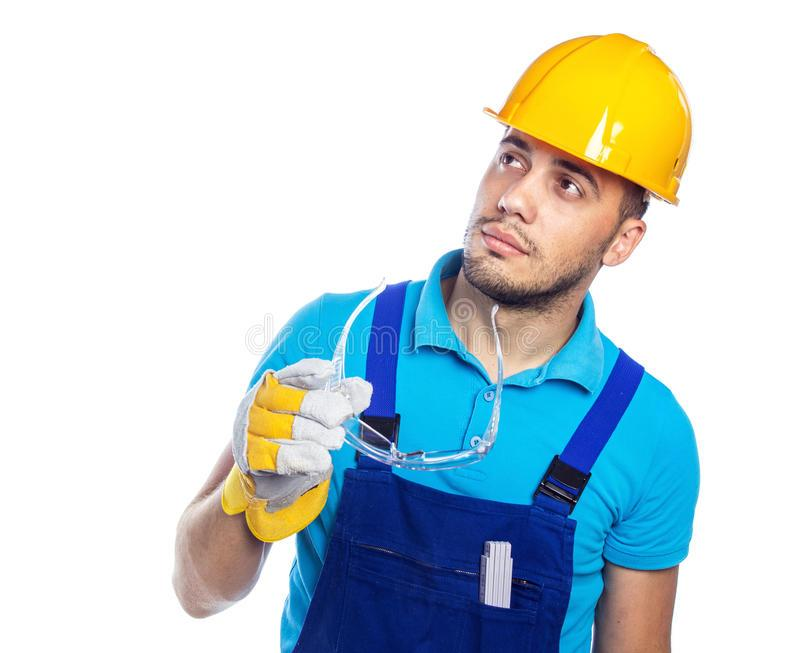helmet: (487, 33, 693, 210)
